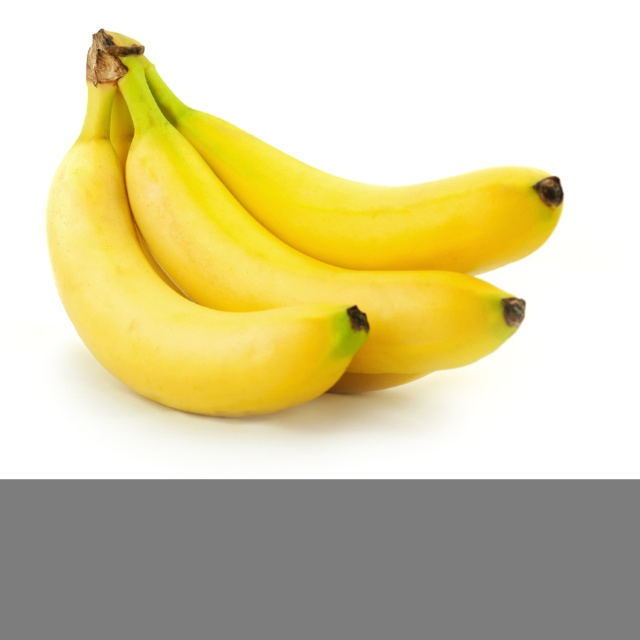chuoi: (56, 26, 564, 418)
